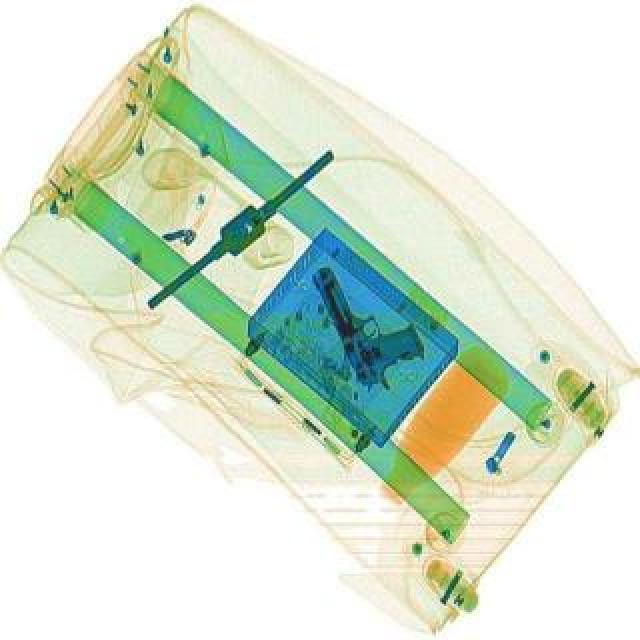gun: (306, 246, 436, 398)
